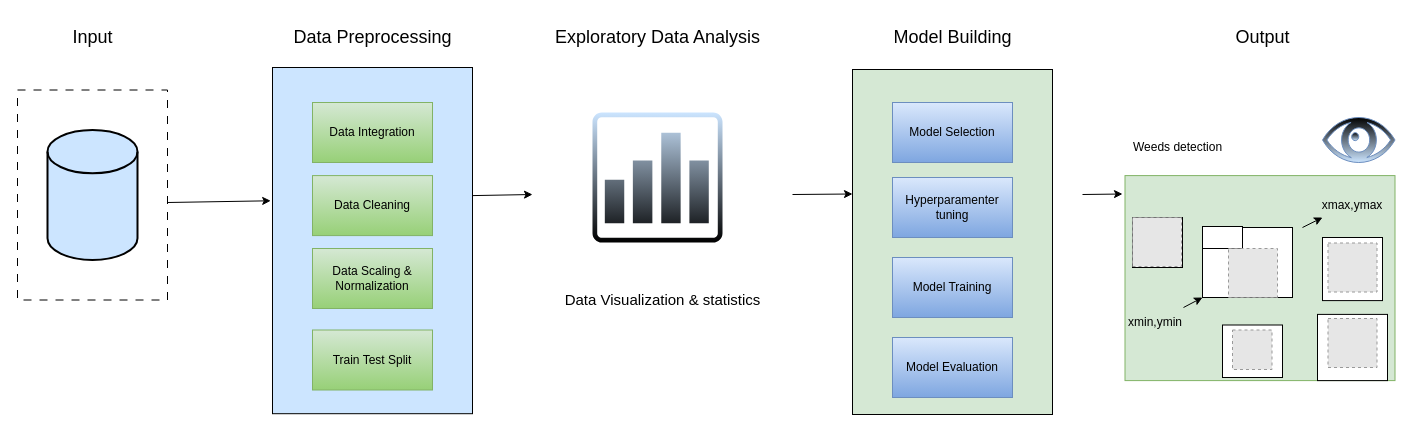
Some shapes in this 1413 by 432 pixel diagram are drawn without their labels. Grey dashed boxes stand in for pictures. Here are the shapes that lost their labels. From the top down, the centre of each, then its label:
point (92, 194): Data Source
point (1222, 237): SCORE
